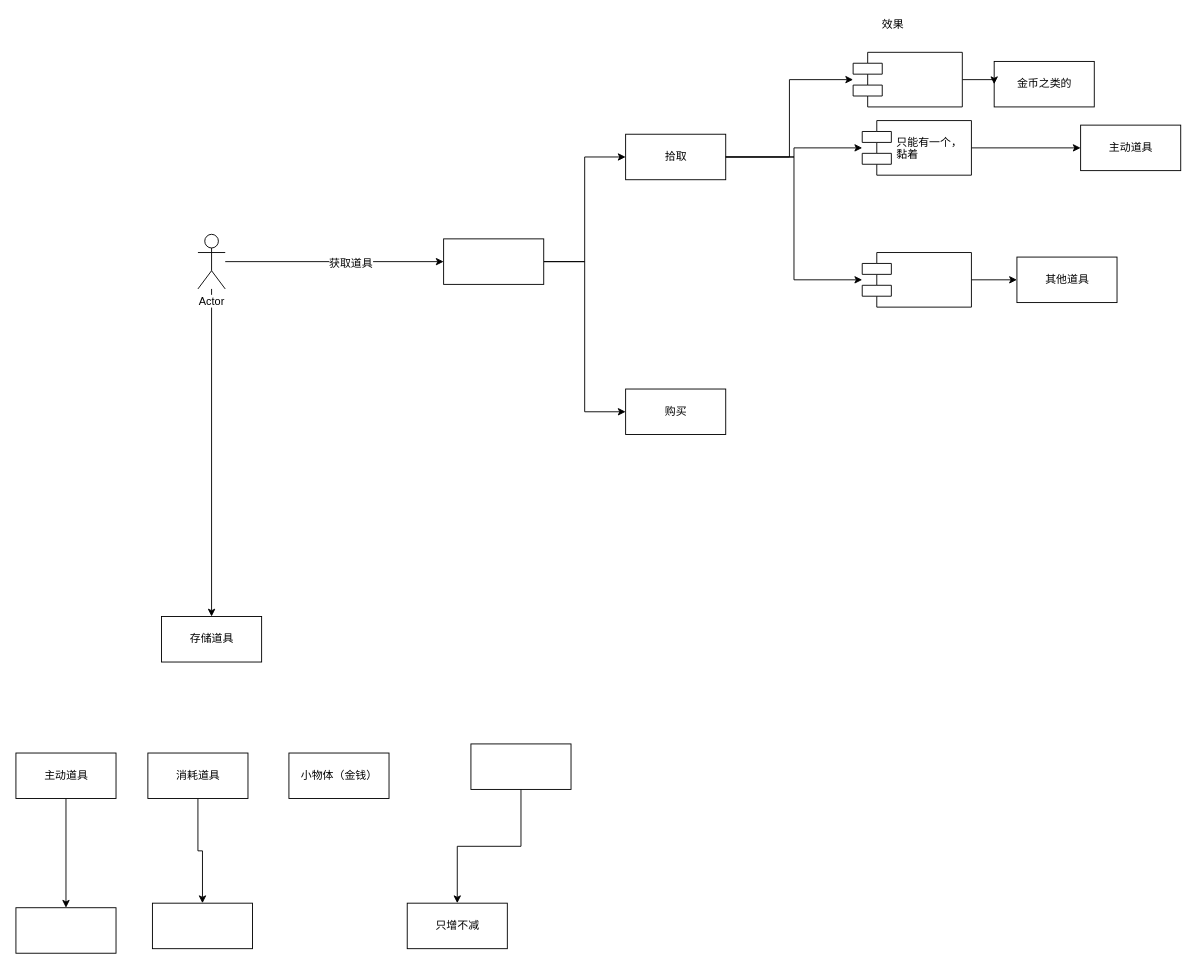
This 1197x969 diagram has some shape labels left out. Each missing label, with the centre of its shape:
"可增可减" belongs at point 202,925.
"数量有限" belongs at point 65,930.
"普通捡起" belongs at point 916,279.
"获取方法" belongs at point 493,261.
"被动道具" belongs at point 520,766.
"飞到主角身上" belongs at point 907,79.
